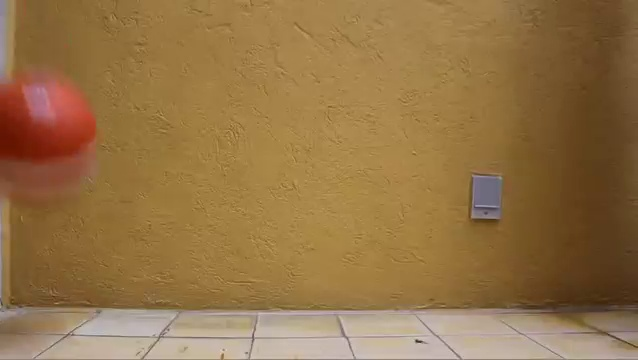ball: (1, 72, 99, 212)
